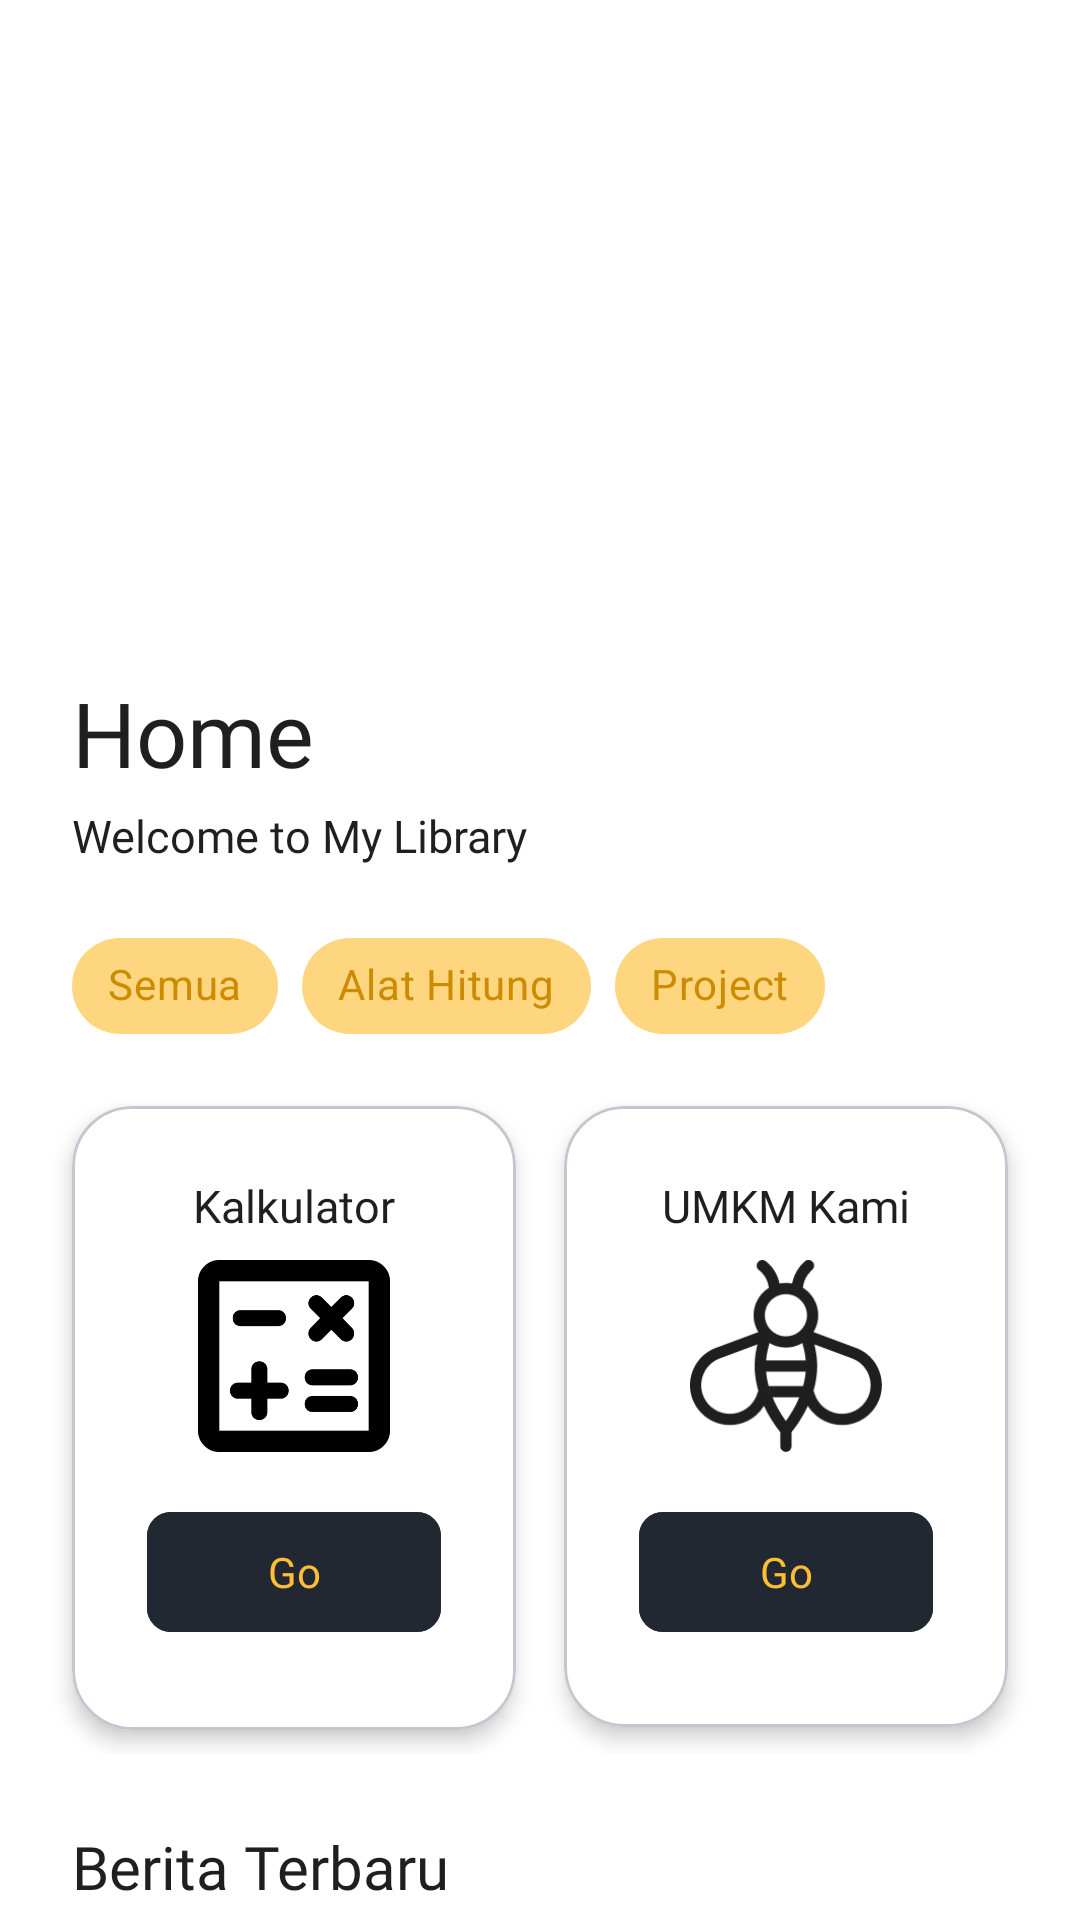

Locate icon controls on the screen. Image size 1080 x 1920, boxes as (x1, y1, x2, y2).
bee: (690, 1260, 882, 1452)
